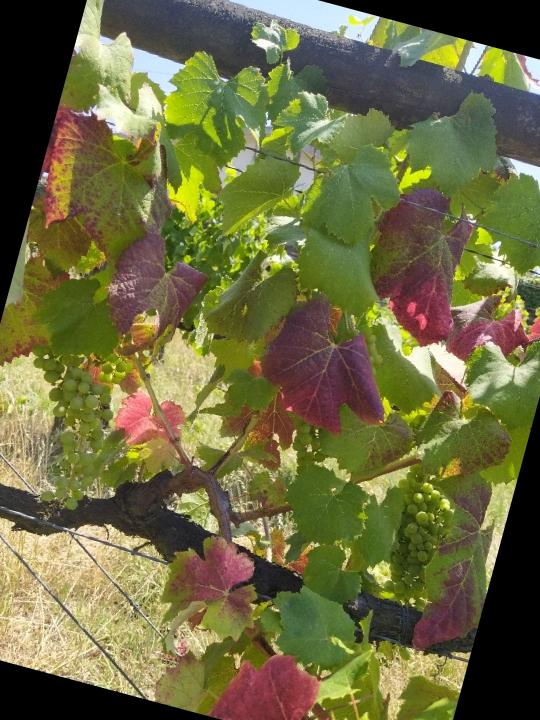grape: (0, 335, 141, 525), (368, 468, 466, 612)
